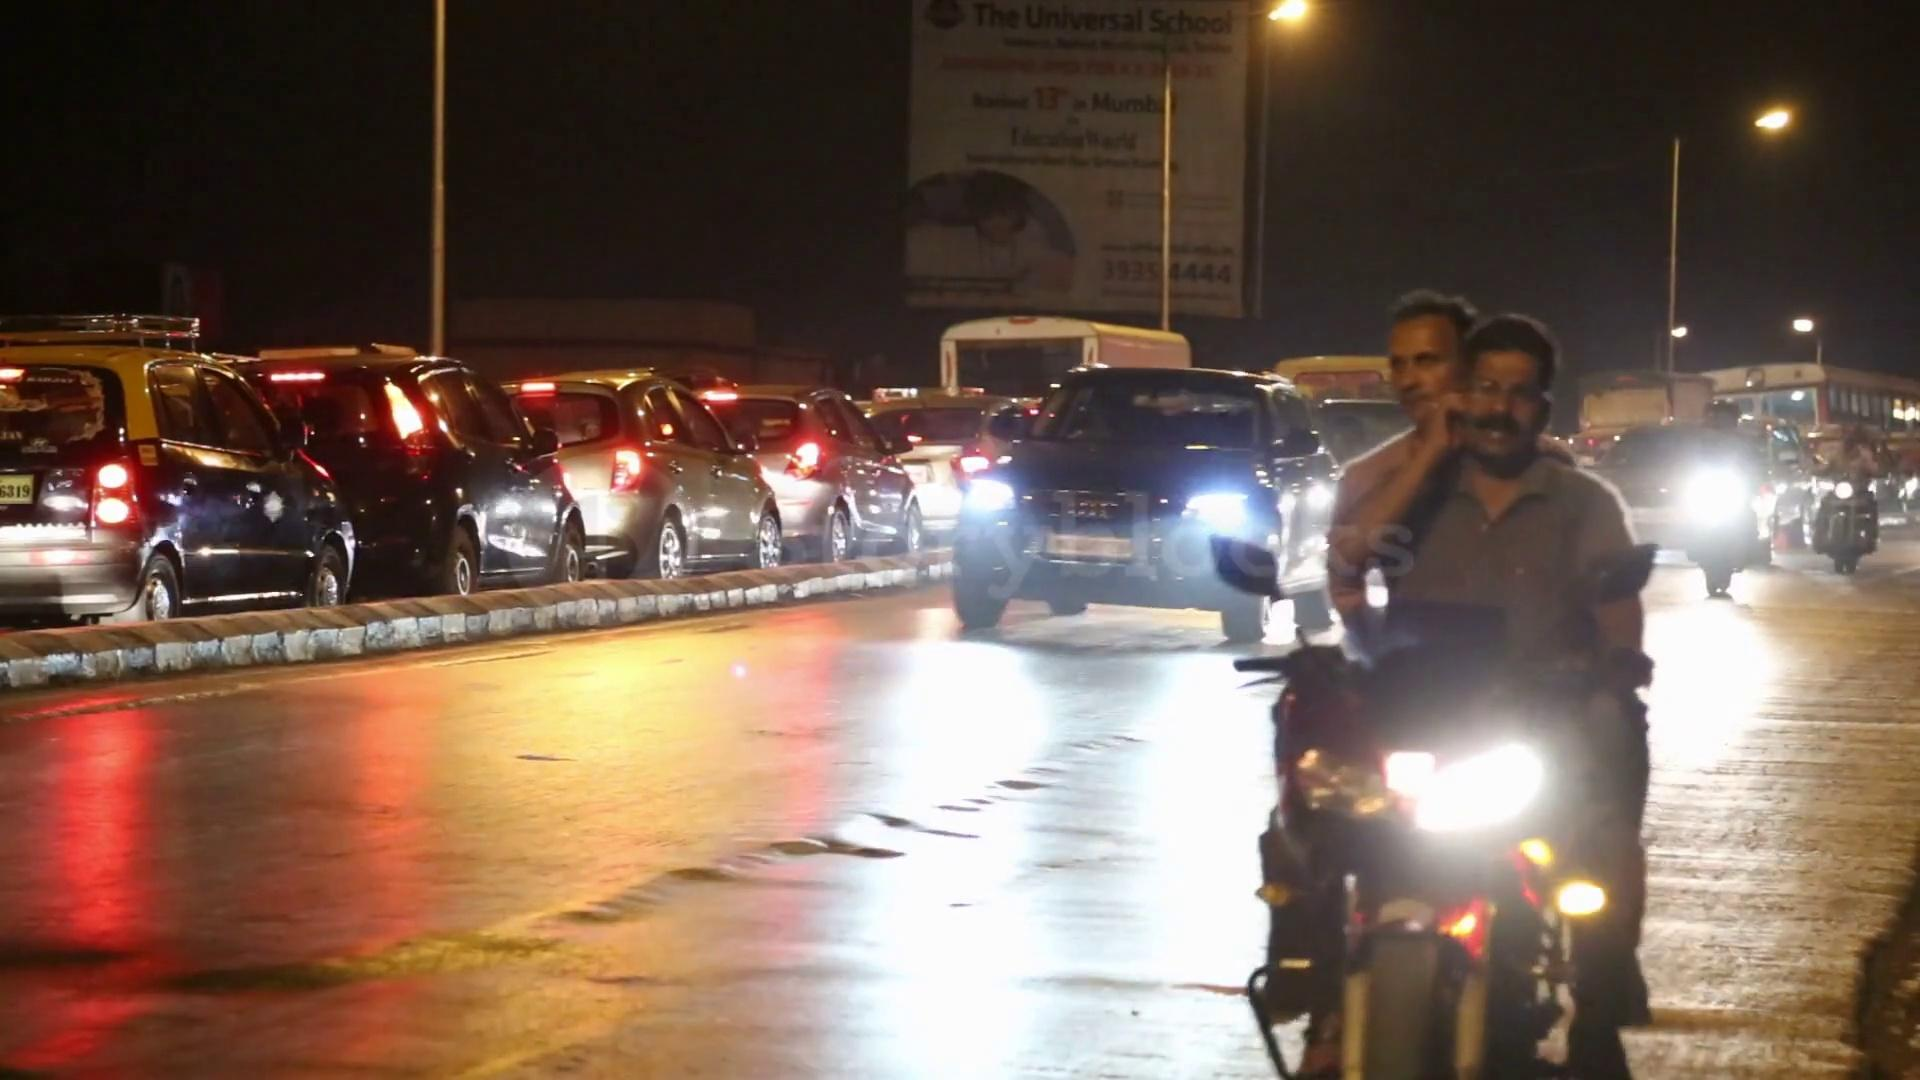rider: (1270, 307, 1657, 1075), (1681, 391, 1761, 613), (1823, 401, 1877, 593)
without_helmate: (1456, 321, 1551, 460)
